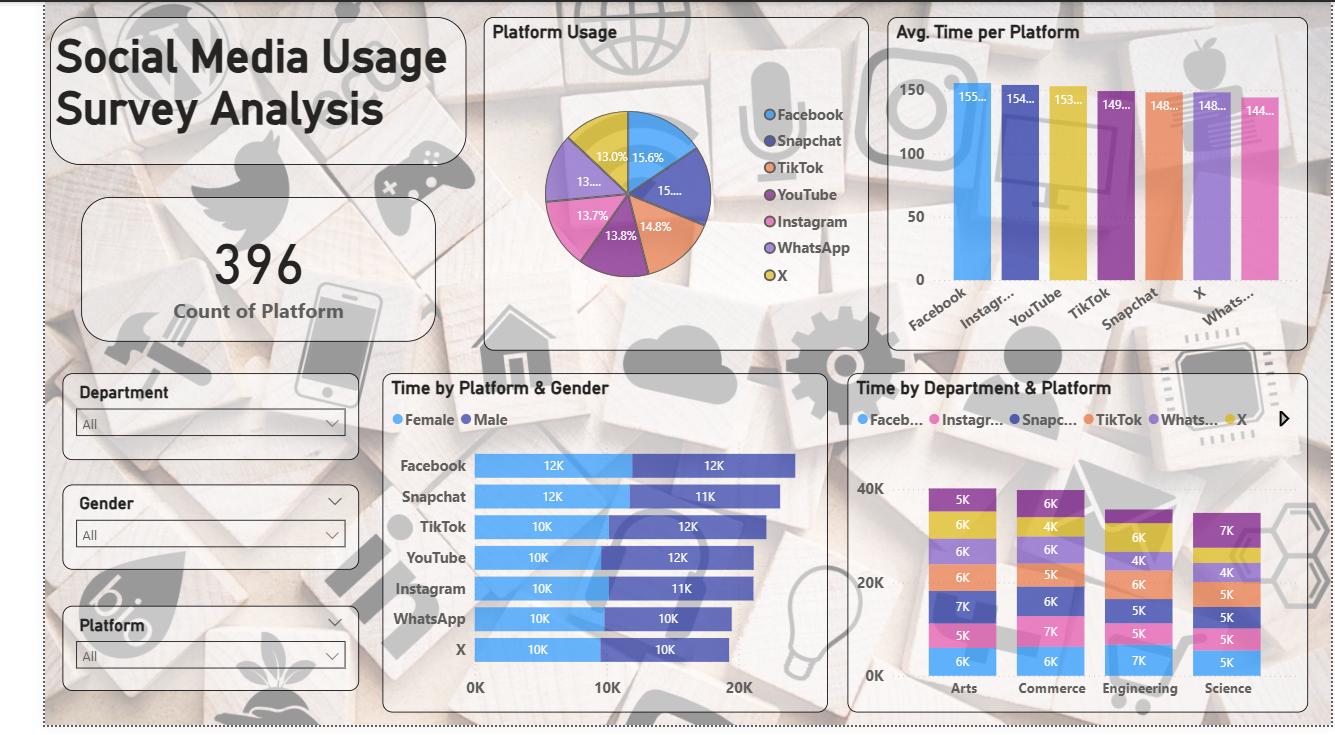

The page's visual inventory and layout, read from the dashboard file:
{"tool":"powerbi","page":{"name":"Page 1","canvas":[1280,720],"ordinal":0},"visuals":[{"type":"clusteredColumnChart","title":"Avg. Time per Platform","fields":{"Category":["Sheet1.Platform"],"Y":["Avg(Sheet1.Time per Day (minutes))"]},"box":[838.4,15.1,418.5,332.1],"z":0},{"type":"pieChart","title":"Platform Usage","fields":{"Category":["Sheet1.Platform"],"Y":["CountNonNull(Sheet1.Platform)"]},"box":[436.4,15.1,382.8,332.1],"z":1000},{"type":"card","fields":{"Values":["CountNonNull(Sheet1.Platform)"]},"box":[35.7,193.5,352.7,144.1],"z":2000},{"type":"barChart","title":"Time by Platform & Gender","fields":{"Category":["Sheet1.Platform"],"Series":["Sheet1.Gender"],"Y":["Sum(Sheet1.Time per Day (minutes))"]},"box":[336.2,369.1,443.2,337.6],"z":3000},{"type":"columnChart","title":"Time by Department & Platform","fields":{"Category":["Sheet1.Department"],"Series":["Sheet1.Platform"],"Y":["Sum(Sheet1.Time per Day (minutes))"]},"box":[798.6,369.1,458.3,337.6],"z":4000},{"type":"slicer","fields":{"Values":["Sheet1.Department"]},"box":[17.8,369.1,295,86.4],"z":5000},{"type":"slicer","fields":{"Values":["Sheet1.Gender"]},"box":[17.8,480.3,295,85.1],"z":6000},{"type":"slicer","fields":{"Values":["Sheet1.Platform"]},"box":[17.8,601,295,85.1],"z":7000},{"type":"textbox","title":"Social Media Usage Survey Analysis","box":[5.5,15.1,414.4,146.8],"z":8000}]}

Visuals, with their boxes in screenshot pixels (x1, y1, x2, y2), scaled from the page's 1280x720 canvas onto the 1335x735 screenshot:
"Avg. Time per Platform" clusteredColumnChart: rect(874, 15, 1311, 354)
"Platform Usage" pieChart: rect(455, 15, 854, 354)
card - CountNonNull(Sheet1.Platform): rect(37, 198, 405, 345)
"Time by Platform & Gender" barChart: rect(351, 377, 813, 721)
"Time by Department & Platform" columnChart: rect(833, 377, 1311, 721)
slicer - Sheet1.Department: rect(19, 377, 326, 465)
slicer - Sheet1.Gender: rect(19, 490, 326, 577)
slicer - Sheet1.Platform: rect(19, 614, 326, 700)
"Social Media Usage Survey Analysis" textbox: rect(6, 15, 438, 165)
